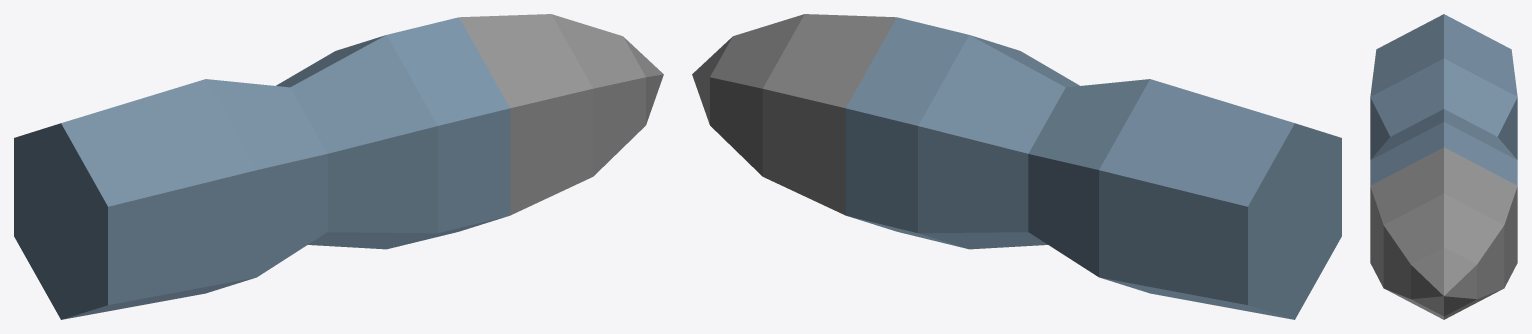
The model's file is item_shell_emp_a.obj.
The picture shows the model from 3 angles, left to right: view 1: azimuth 30°, elevation 25°; view 2: azimuth 150°, elevation 25°; view 3: azimuth 270°, elevation 25°; orthographic projection. The views are drawn at different scales.
Size of the model in its own units: 0.805 by 0.2737 by 0.237.
